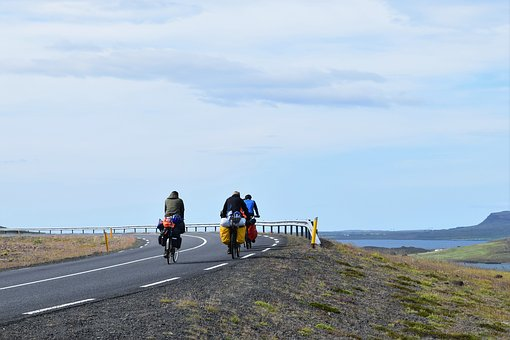bikerider: (154, 186, 187, 265), (215, 188, 249, 261)
